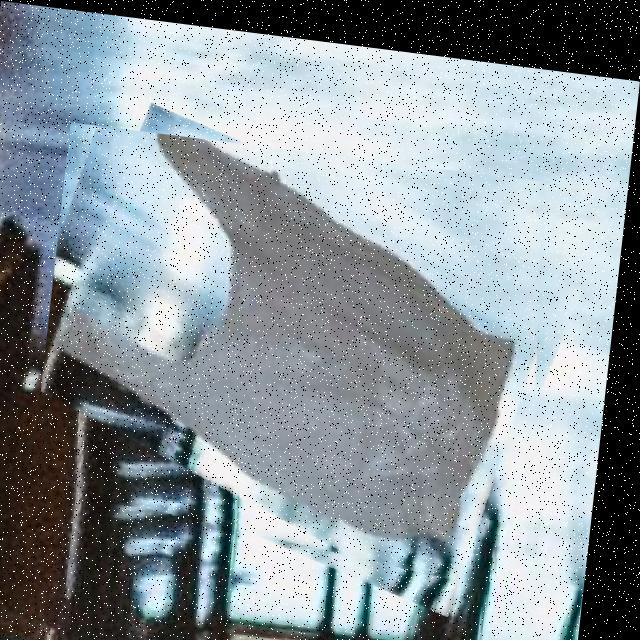litter: (36, 119, 577, 581)
